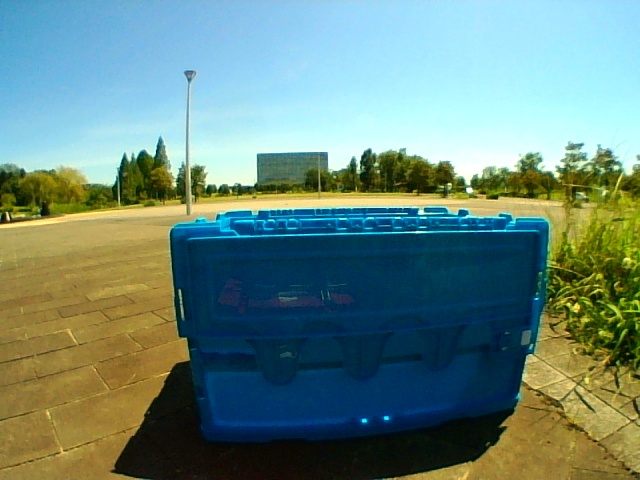blue_box: (202, 212, 517, 407)
